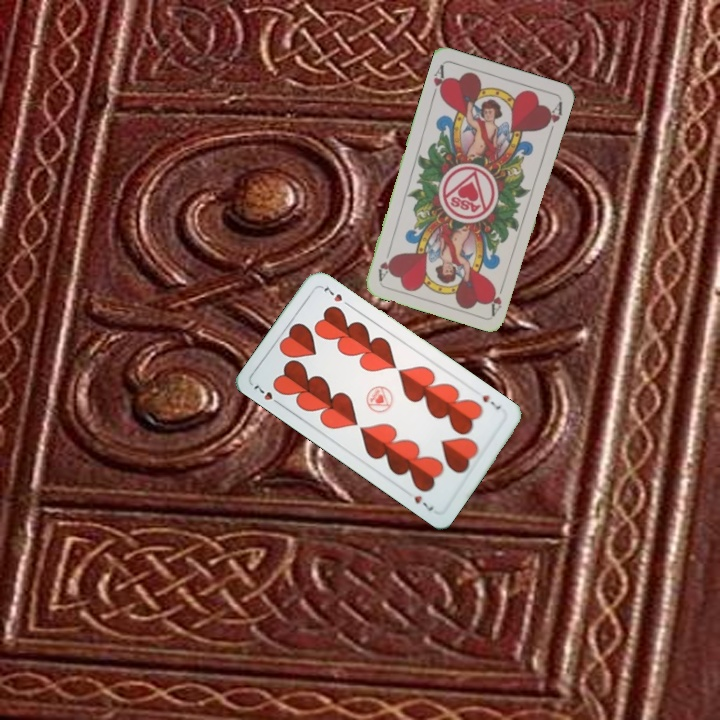H7: (249, 380, 284, 408), (478, 388, 503, 413)
HA: (428, 61, 450, 101), (486, 277, 507, 317)
